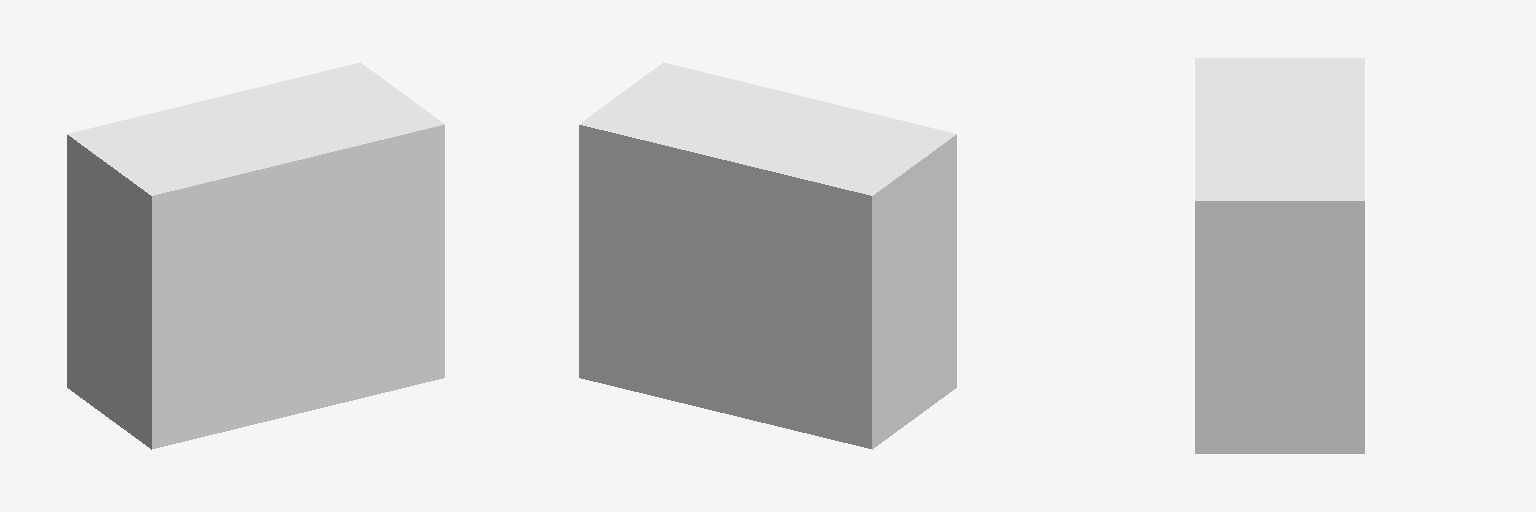
Rendered from BarricadeVox.obj.
3 renders of one model, left to right at view 1: azimuth 30°, elevation 25°; view 2: azimuth 150°, elevation 25°; view 3: azimuth 270°, elevation 25°, orthographic.
Parts seen in each view (by area): view 1: BarricadeVox; view 2: BarricadeVox; view 3: BarricadeVox.
Part boxes in pixels (x1,y1,x2,y2): BarricadeVox: (67, 62, 444, 449); BarricadeVox: (579, 62, 956, 449); BarricadeVox: (1195, 58, 1364, 453).
Bounding box in the file's own units: 40 × 33 × 20.